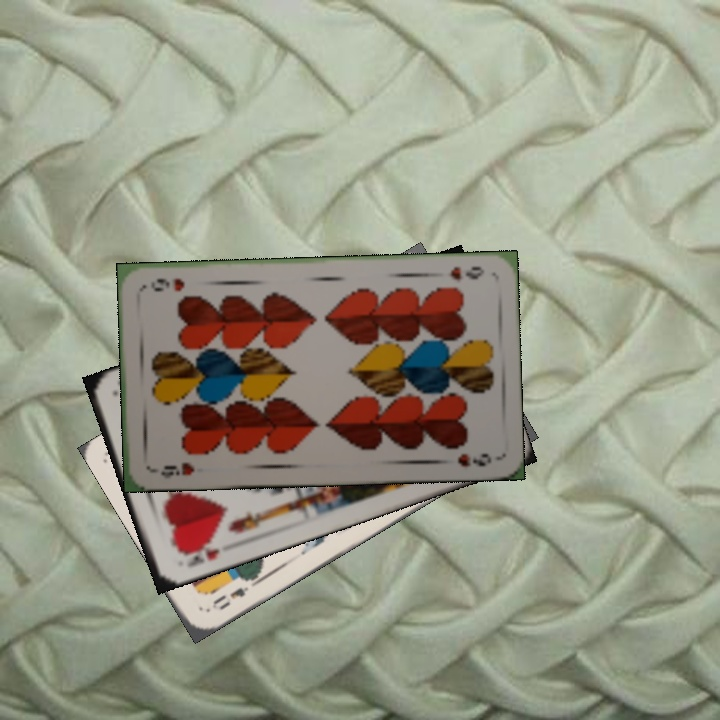EO: (207, 574, 254, 613)
H9: (148, 458, 197, 481), (446, 262, 487, 284)
HK: (175, 537, 222, 570)
